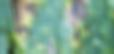Tomato Early blight leaf: (10, 0, 114, 54)
